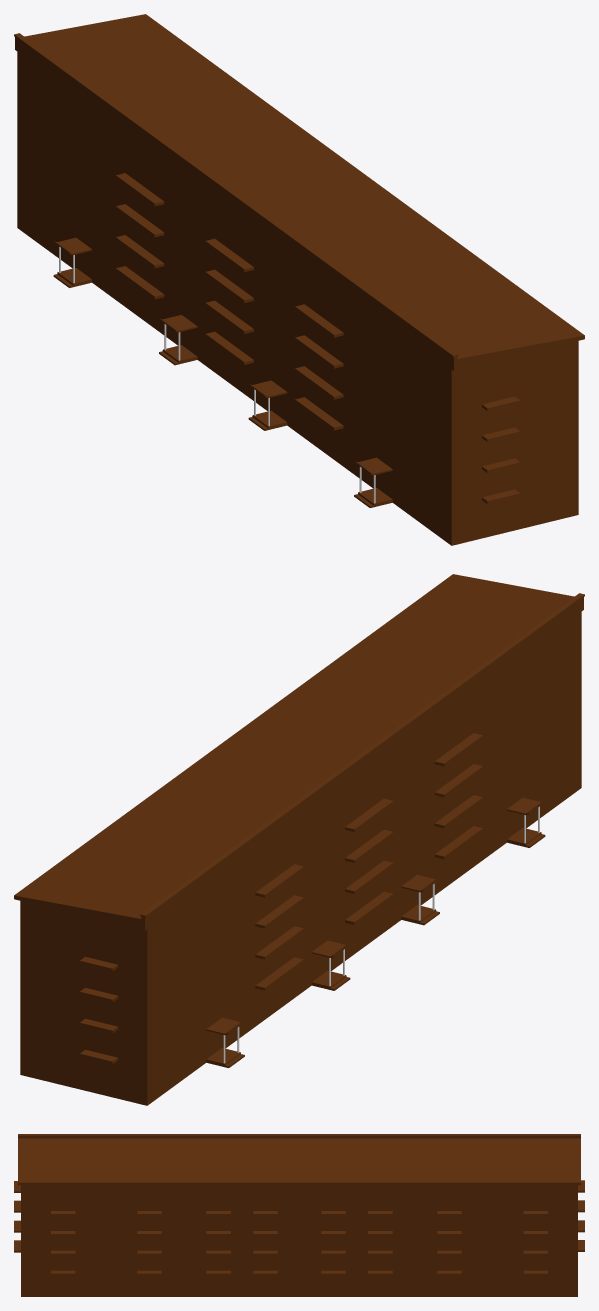
File: khrushevka.fbx
The picture shows the model from 3 angles, top to bottom: view 1: azimuth 30°, elevation 25°; view 2: azimuth 150°, elevation 25°; view 3: azimuth 270°, elevation 25°; orthographic projection. The views are drawn at different scales.
Visible parts, largest first — view 1: Khrushchyovka.010; view 2: Khrushchyovka.010; view 3: Khrushchyovka.010.
Boxes of the visible parts, bbox=[...] form: Khrushchyovka.010: bbox=[14, 14, 584, 545]; Khrushchyovka.010: bbox=[14, 574, 584, 1105]; Khrushchyovka.010: bbox=[14, 1134, 584, 1296].
Bounding box in the file's own units: 1505 × 1735 × 7300.
